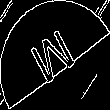M_SE: (27, 21, 83, 89)
